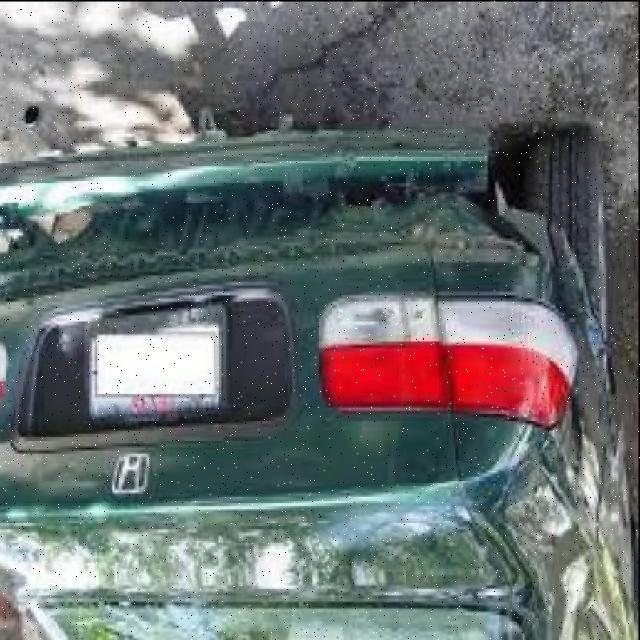damage: (1, 123, 592, 323)
